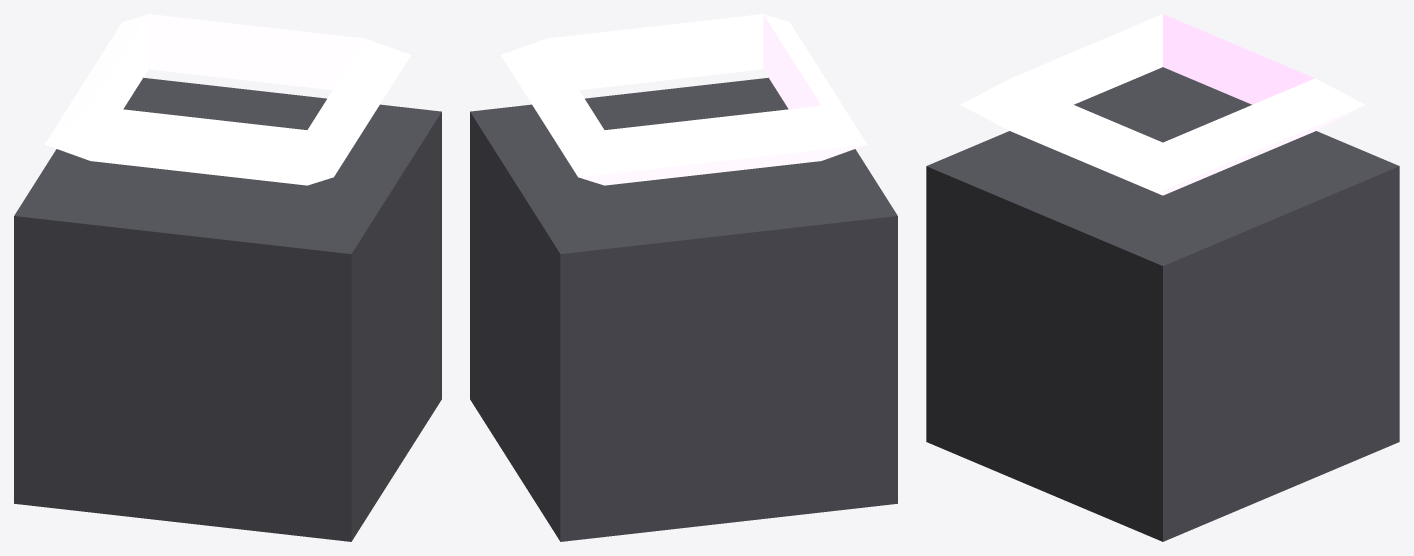
Rendered from tower_chain_lod2.glb.
3 views of the same model, side by side, from view 1: azimuth 30°, elevation 25°; view 2: azimuth 150°, elevation 25°; view 3: azimuth 270°, elevation 25° (orthographic). The views are drawn at different scales.
Visible parts, largest first — view 1: tower_chain_lod2; view 2: tower_chain_lod2; view 3: tower_chain_lod2.
Boxes of the visible parts, bbox=[...] form: tower_chain_lod2: bbox=[14, 14, 441, 541]; tower_chain_lod2: bbox=[470, 14, 897, 541]; tower_chain_lod2: bbox=[926, 14, 1399, 541].
Size of the model in its own units: 0.7 by 0.5933 by 0.7.
